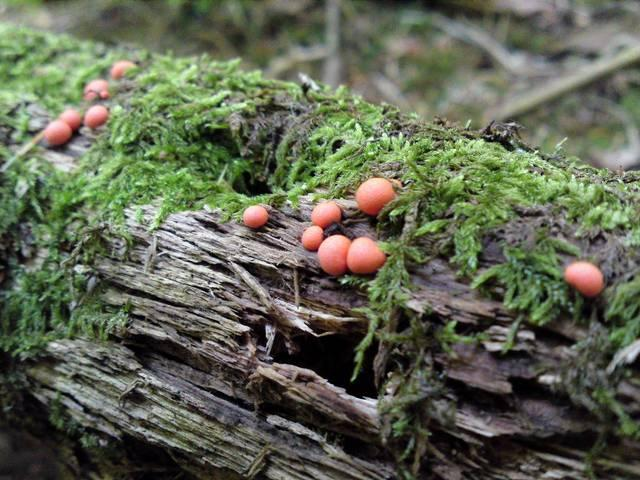Non-edible Mushroom: (354, 176, 395, 216), (346, 235, 386, 274), (563, 259, 604, 297), (316, 233, 350, 275), (309, 200, 342, 228), (43, 118, 72, 146), (241, 204, 269, 228), (83, 103, 108, 129), (300, 224, 323, 250)
